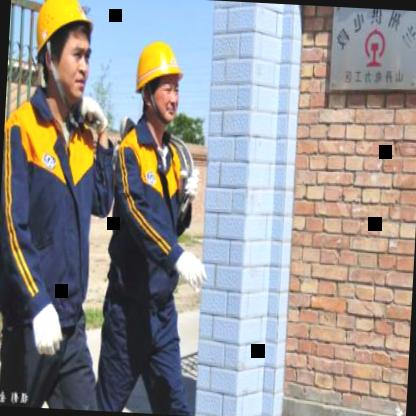helmet: (22, 0, 104, 107), (127, 29, 188, 132)
